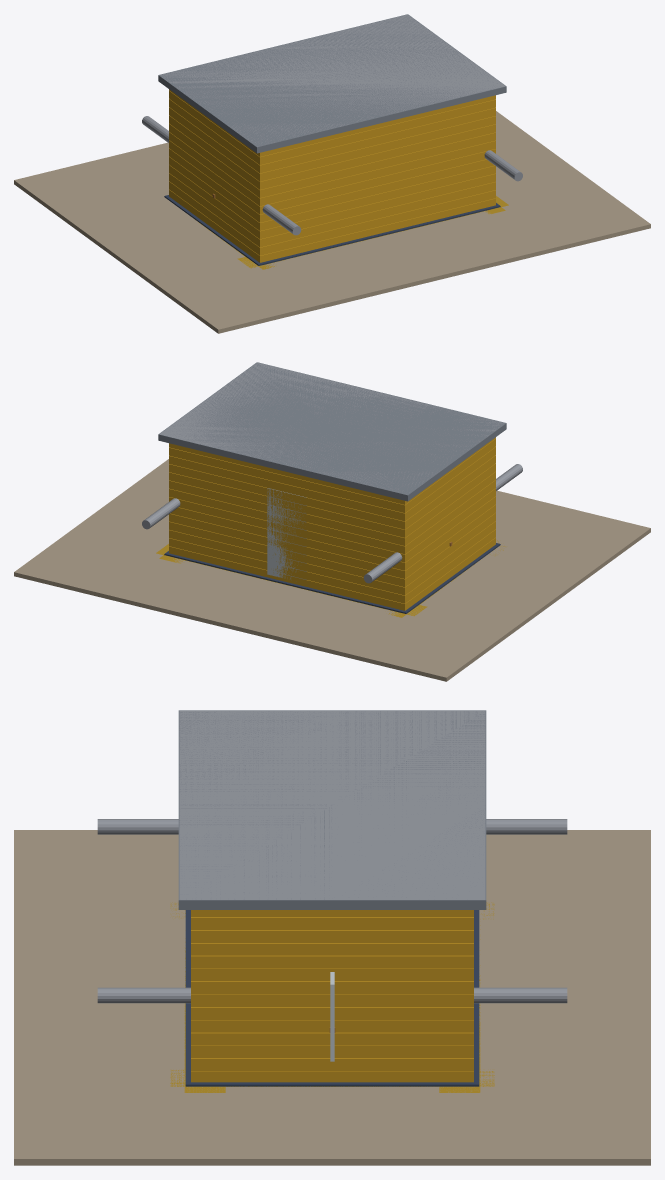
File: stage_08_bands.glb
3 views of the same model, one above another, from view 1: azimuth 30°, elevation 25°; view 2: azimuth 150°, elevation 25°; view 3: azimuth 270°, elevation 25° (orthographic). The views are drawn at different scales.
Parts seen in each view (by area): view 1: world; view 2: world; view 3: world.
Part boxes in pixels (x1,y1,x2,y2): world: (14, 14, 650, 333); world: (14, 362, 650, 681); world: (14, 710, 650, 1165).
Bounding box in the file's own units: 11 × 3.75 × 9.
